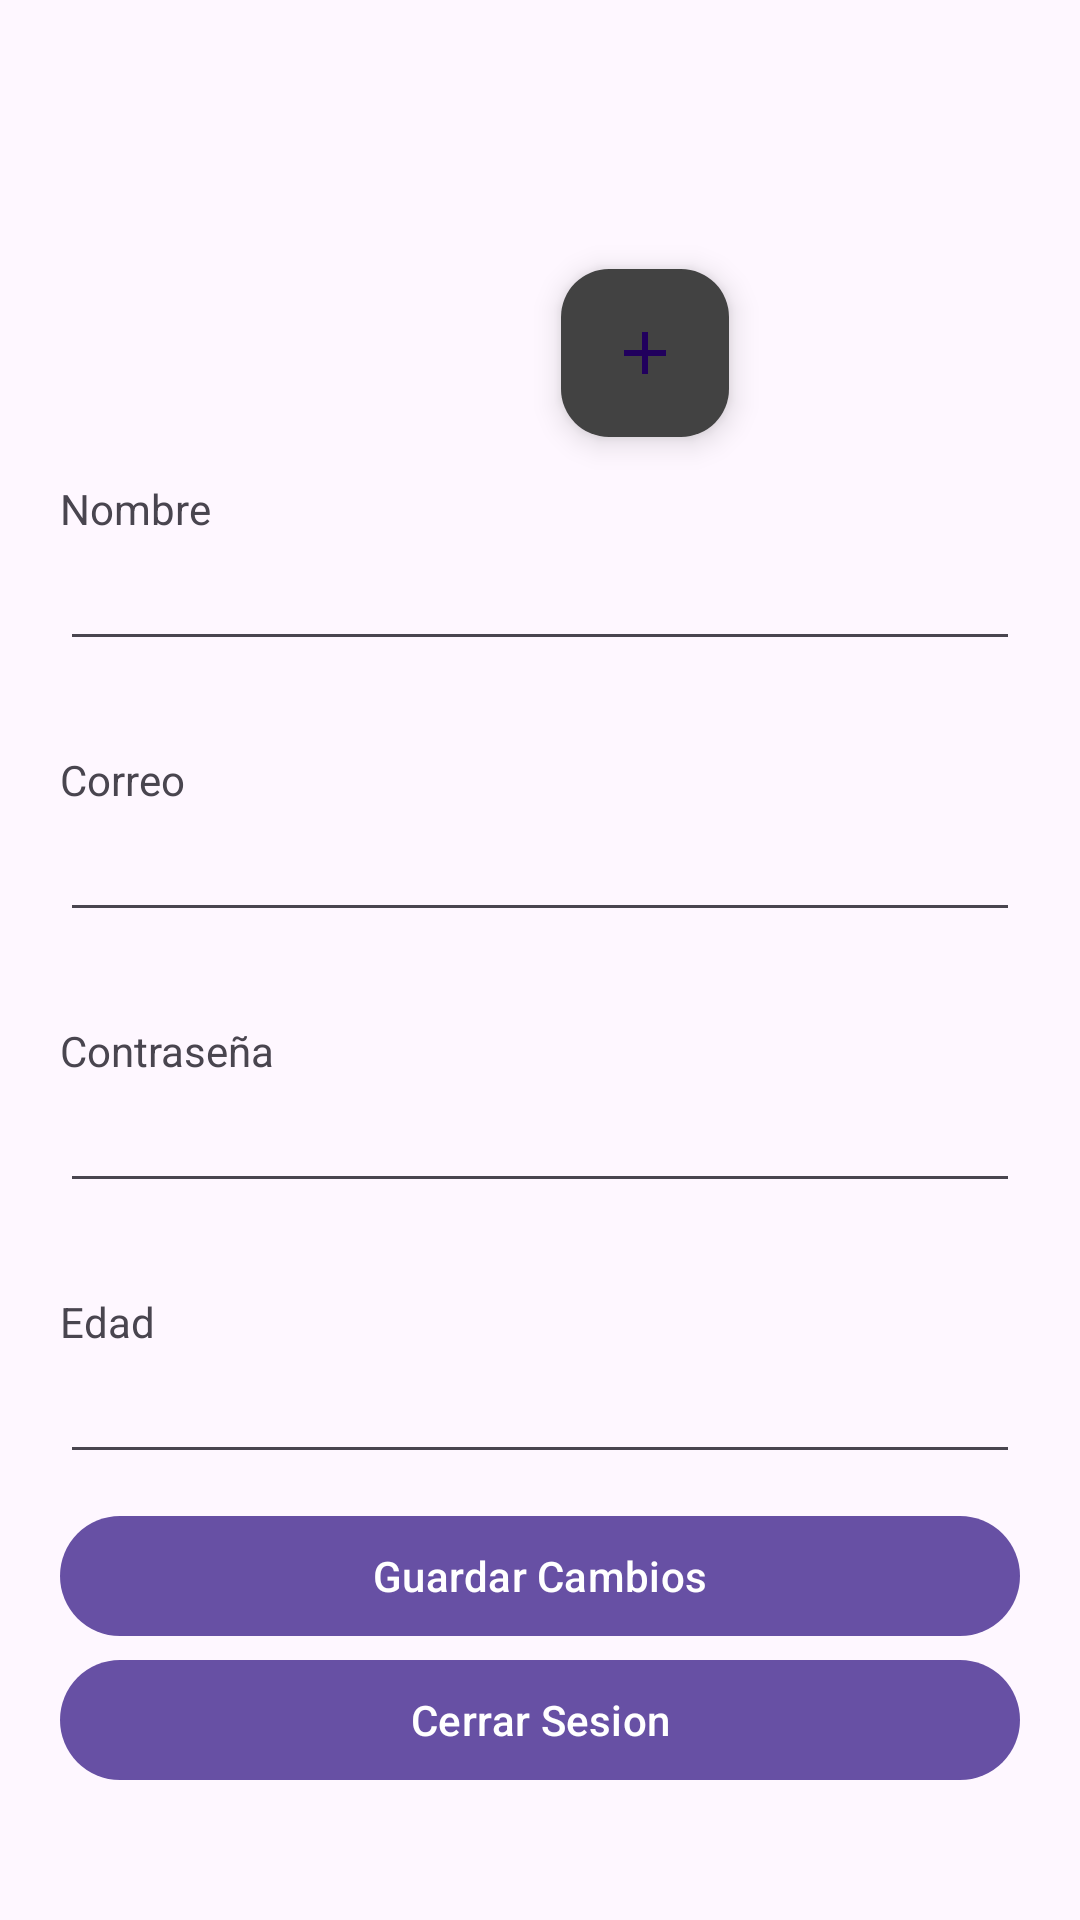

Where icons sit on this 1080×1920 app screen, as region(x1, y1, x2, y2):
add: region(561, 269, 729, 437)
